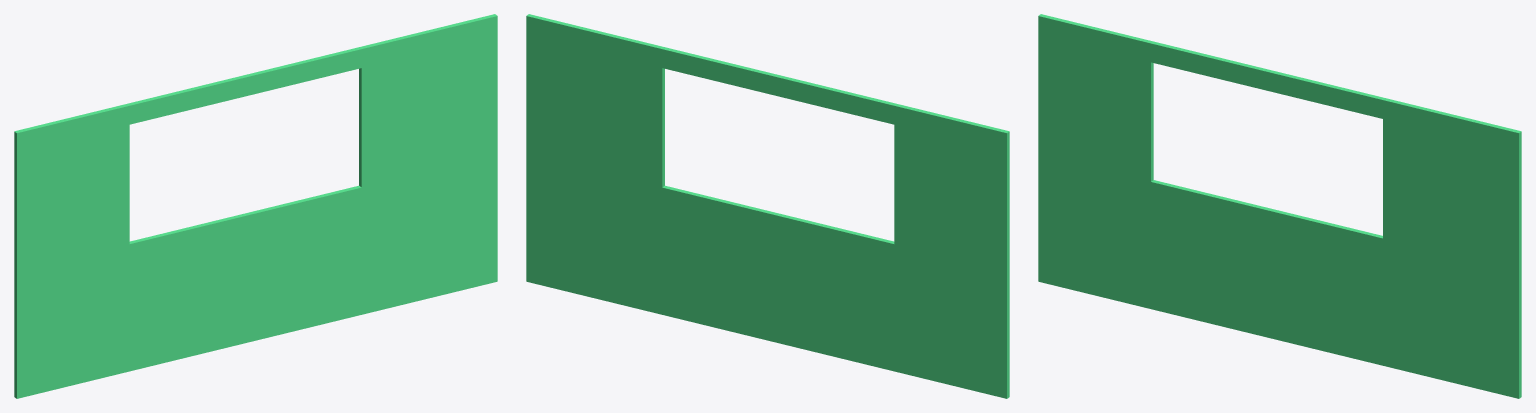
3 renders of one model, left to right at view 1: azimuth 30°, elevation 25°; view 2: azimuth 150°, elevation 25°; view 3: azimuth 330°, elevation 25°, orthographic.
Bounding box in the file's own units: 5.18 × 2.73 × 0.05.
2 materials, 2 textured.
